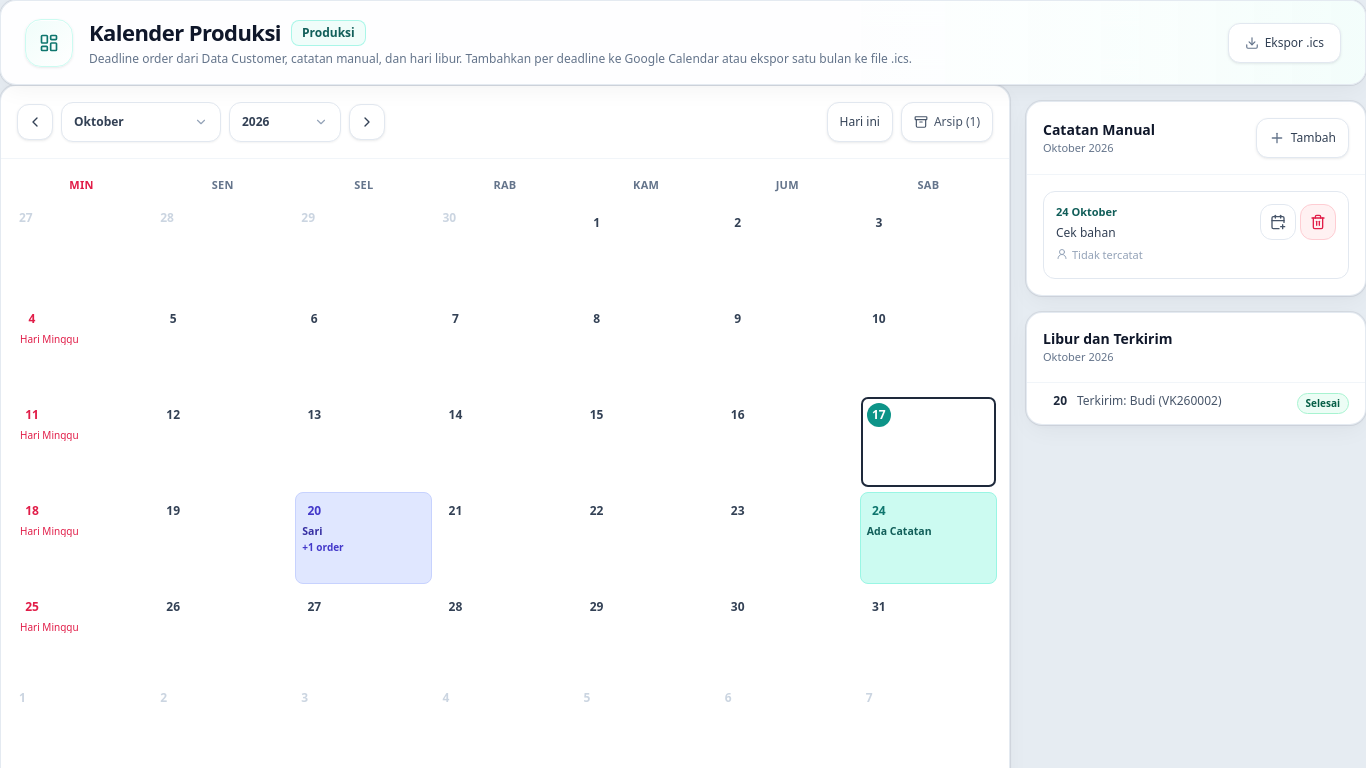
it: ProductionCalendar on a wide screen › opens the current month with a deadline dialog when a date with orders is tapped
Click the button with aria-label "20 Oktober 2026": (364, 538) top-left (295, 492), bottom-right (432, 584)
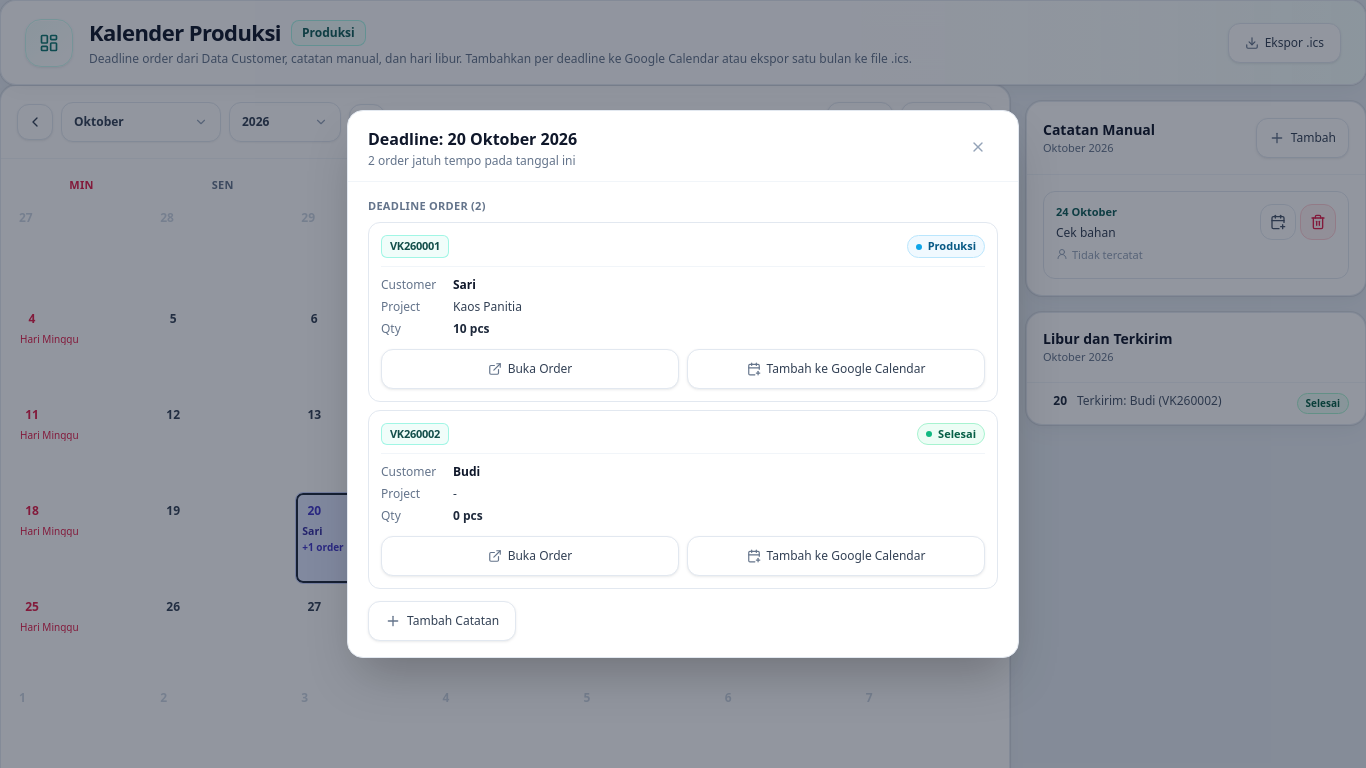
Now the heading "Deadline: 20 Oktober 2026" is shown, box top-left (368, 127), bottom-right (577, 151)
Now the text "VK260001" is shown, box top-left (381, 235), bottom-right (449, 258)
Now the text "Sari" is shown, box top-left (453, 276), bottom-right (476, 293)
